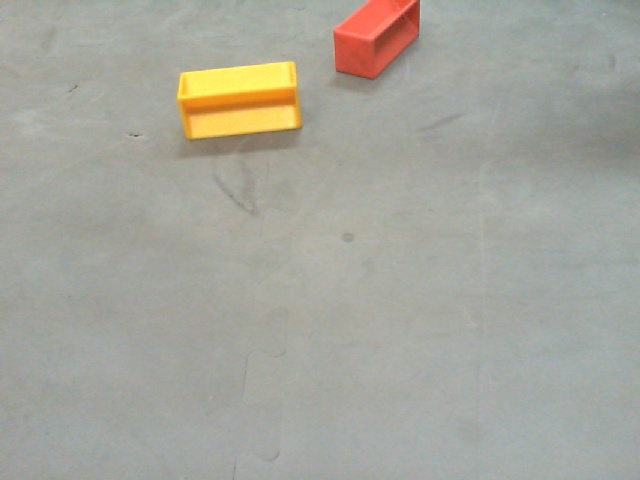RedSample: (332, 1, 420, 81)
YellowSample: (175, 57, 301, 141)
